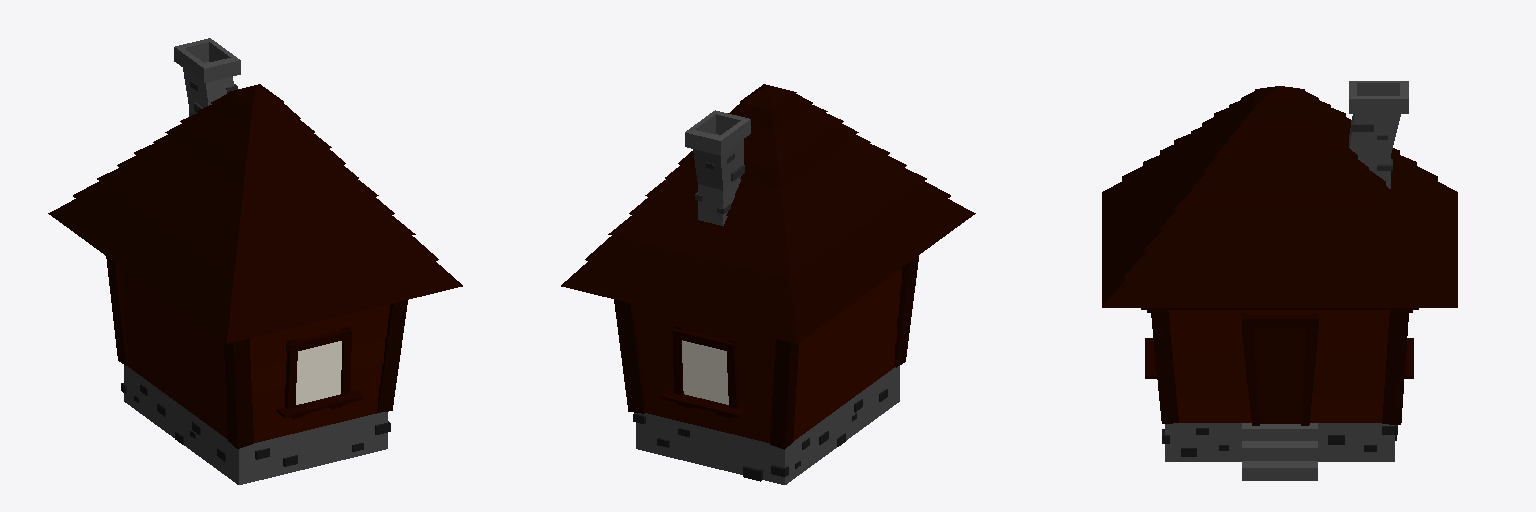
The model's file is LiLHouse.obj.
The picture shows the model from 3 angles: view 1: azimuth 30°, elevation 25°; view 2: azimuth 150°, elevation 25°; view 3: azimuth 270°, elevation 25°; orthographic projection.
Visible parts, largest first — view 1: Teto_Plane.012, Plane_Plane.004, Plane.002_Plane.010, Keret_Cube.041, Cube_Cube.048, Cube.005_Cube.007, Cube.007_Cube.008, Bricks.001_Cube.002; view 2: Teto_Plane.012, Plane_Plane.004, Plane.002_Plane.010, Keret_Cube.041, Cube_Cube.048, Cube.003, Cube.004, Bricks.001_Cube.002; view 3: Teto_Plane.012, Plane_Plane.004, Plane.002_Plane.010, Keret_Cube.041, Cube.002_Cube.001, Plane.001_Plane.009, Cube_Cube.048, Cube.001_Cube, Bricks.001_Cube.002.
Part boxes in pixels (left/top/right/bottom): Teto_Plane.012: left=48, top=84, right=462, bottom=343; Plane_Plane.004: left=122, top=268, right=390, bottom=442; Plane.002_Plane.010: left=124, top=365, right=387, bottom=484; Keret_Cube.041: left=106, top=256, right=407, bottom=448; Cube_Cube.048: left=174, top=38, right=240, bottom=116; Cube.005_Cube.007: left=277, top=326, right=362, bottom=418; Cube.007_Cube.008: left=296, top=341, right=341, bottom=404; Bricks.001_Cube.002: left=121, top=383, right=390, bottom=466; Teto_Plane.012: left=561, top=84, right=975, bottom=343; Plane_Plane.004: left=633, top=268, right=901, bottom=442; Plane.002_Plane.010: left=636, top=366, right=899, bottom=484; Keret_Cube.041: left=614, top=256, right=918, bottom=449; Cube_Cube.048: left=685, top=110, right=750, bottom=225; Cube.003: left=661, top=325, right=746, bottom=418; Cube.004: left=682, top=340, right=728, bottom=404; Bricks.001_Cube.002: left=633, top=389, right=887, bottom=481; Teto_Plane.012: left=1102, top=86, right=1457, bottom=307; Plane_Plane.004: left=1168, top=310, right=1389, bottom=422; Plane.002_Plane.010: left=1165, top=423, right=1394, bottom=461; Keret_Cube.041: left=1141, top=308, right=1418, bottom=424; Cube.002_Cube.001: left=1253, top=328, right=1307, bottom=423; Plane.001_Plane.009: left=1242, top=423, right=1317, bottom=480; Cube_Cube.048: left=1349, top=81, right=1408, bottom=188; Cube.001_Cube: left=1242, top=314, right=1318, bottom=425; Bricks.001_Cube.002: left=1162, top=425, right=1397, bottom=456.
Bounding box in the file's own units: 7.17 × 9.8 × 9.33.